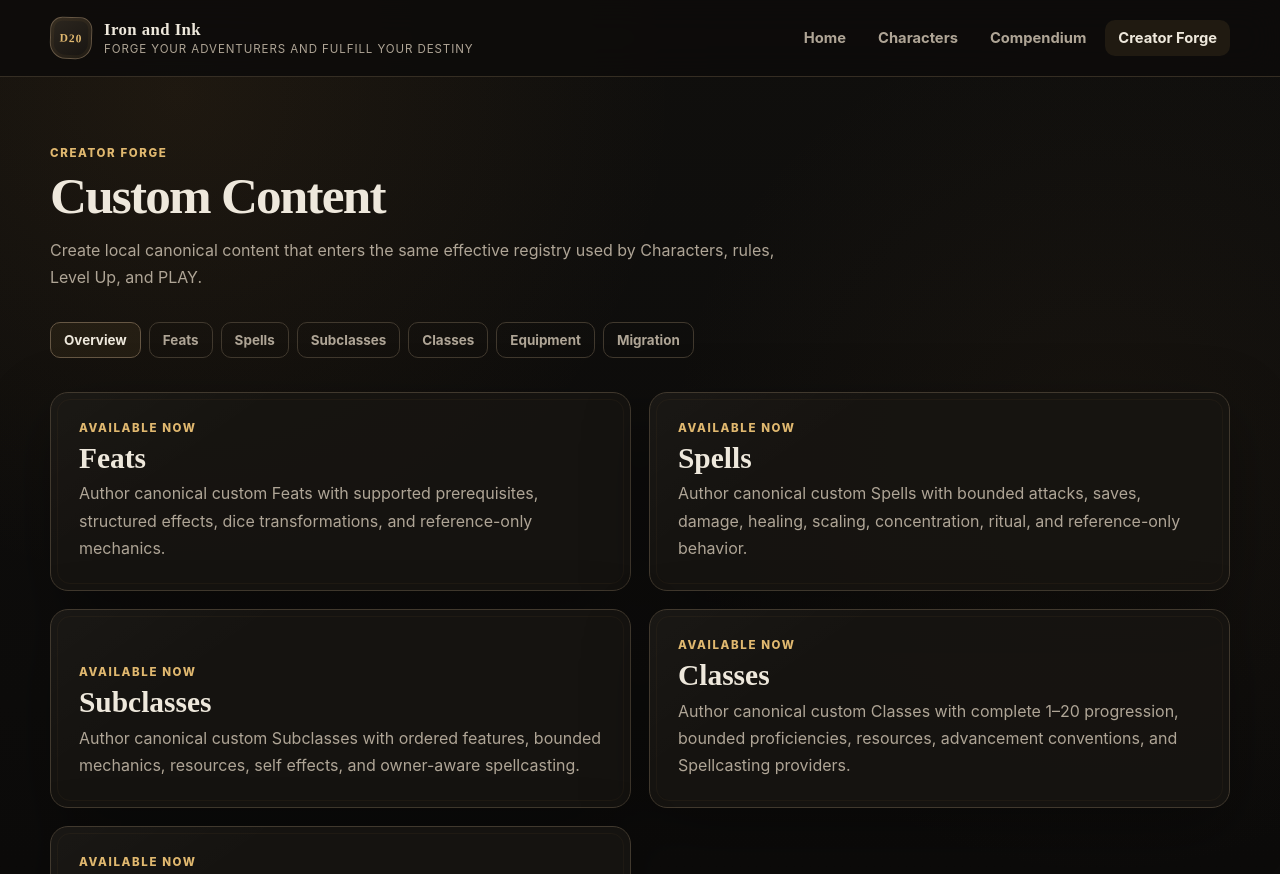
Test: M16-D Creator Forge shell and Spell Forge UI › A preserves Spells and Feats while later Forge families follow the current shell
Expected: the link "Creator Forge" is shown, [1105,20,1230,56]
Click the link "Spells": (255, 340) [221,322,289,358]
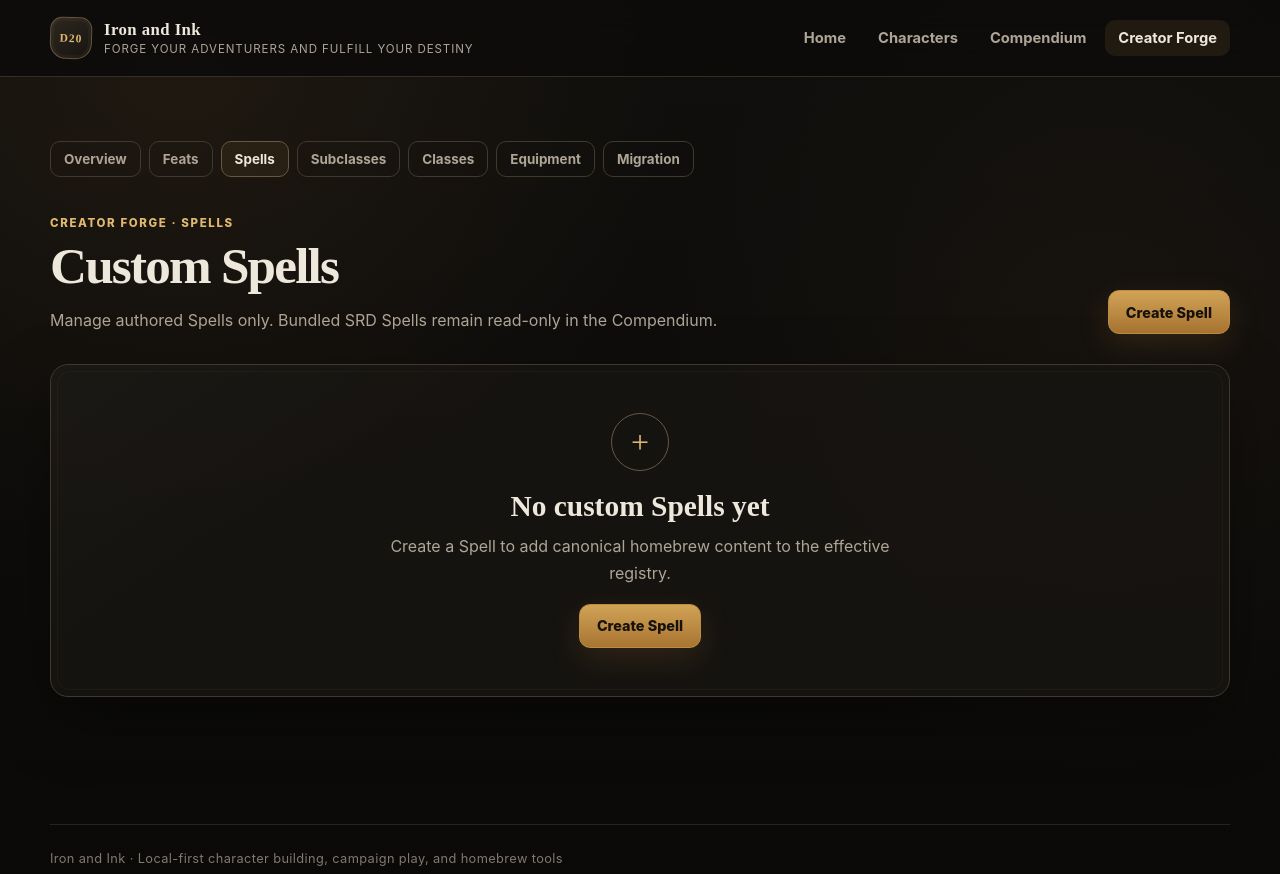
Expected: the heading "Custom Spells" is shown, [50,237,338,294]
Click the 1st link "Create Spell": (1169, 312) [1108,290,1230,334]
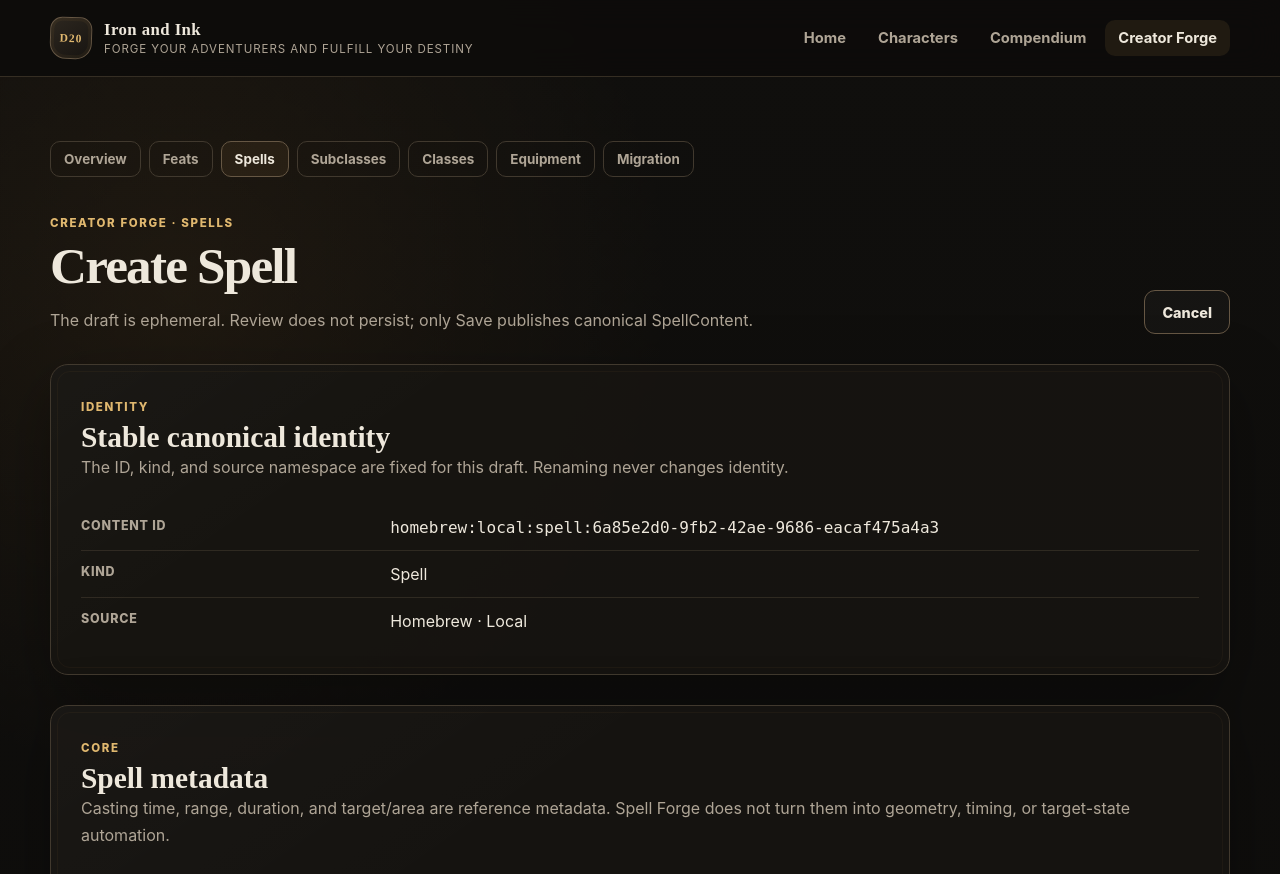
Expected: the heading "Create Spell" is shown, [50,237,296,294]
